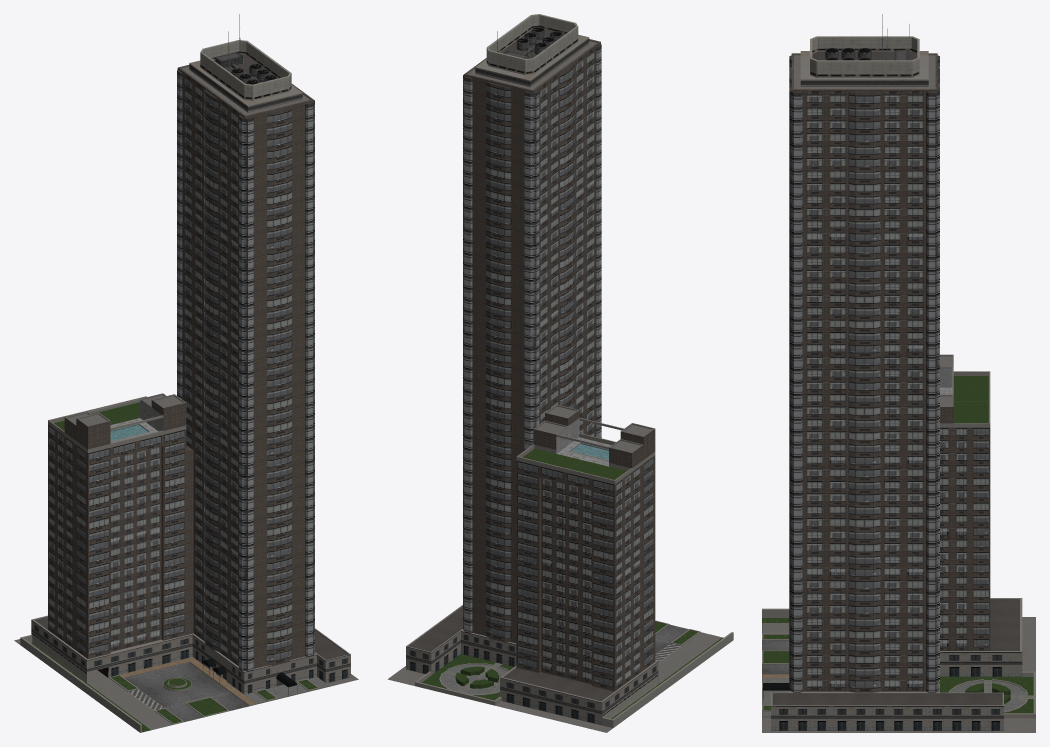
File: hirise12.FBX
3 renders of one model, left to right at view 1: azimuth 30°, elevation 25°; view 2: azimuth 150°, elevation 25°; view 3: azimuth 270°, elevation 25°, orthographic. The views are drawn at different scales.
Visible parts, largest first — view 1: hirise12; view 2: hirise12; view 3: hirise12.
Part boxes in pixels (left/top/right/bottom): hirise12: left=14, top=14, right=358, bottom=732; hirise12: left=387, top=14, right=733, bottom=732; hirise12: left=762, top=14, right=1035, bottom=732.
Bounding box in the file's own units: 5400 × 14835 × 5400.
